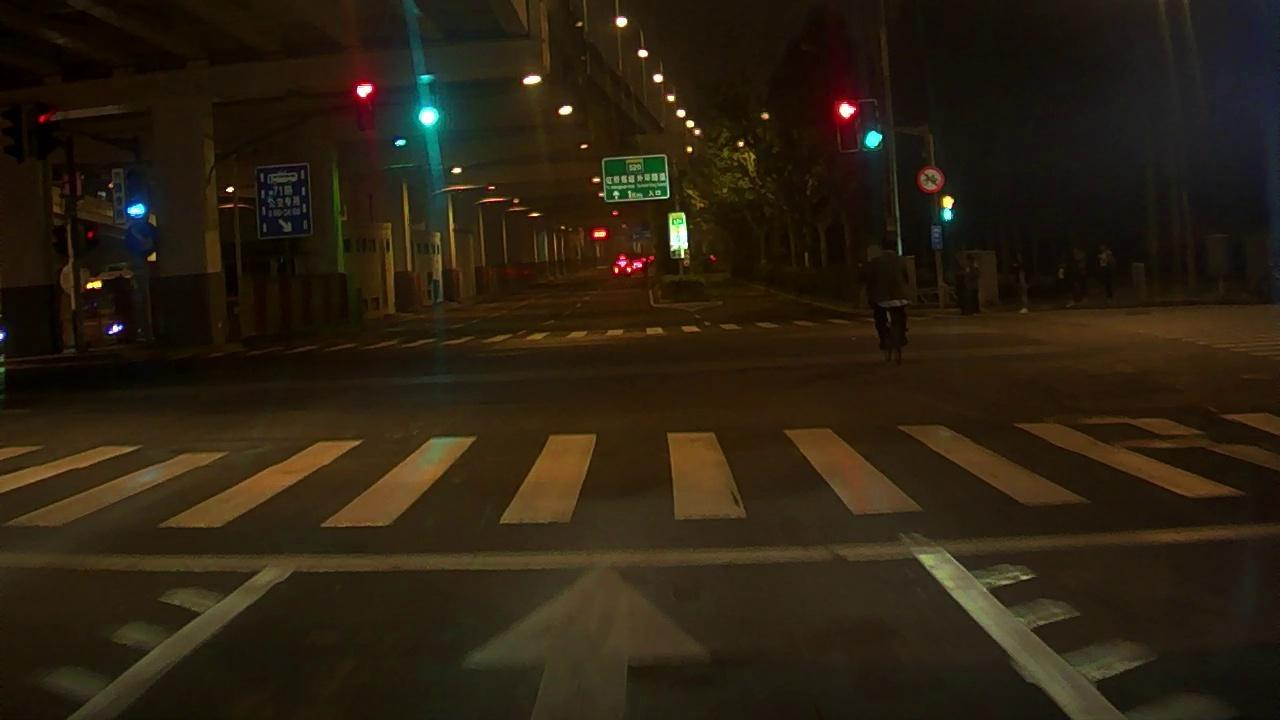traffic_light: (859, 102, 882, 150), (355, 81, 374, 131), (837, 103, 856, 152), (419, 108, 439, 126)
